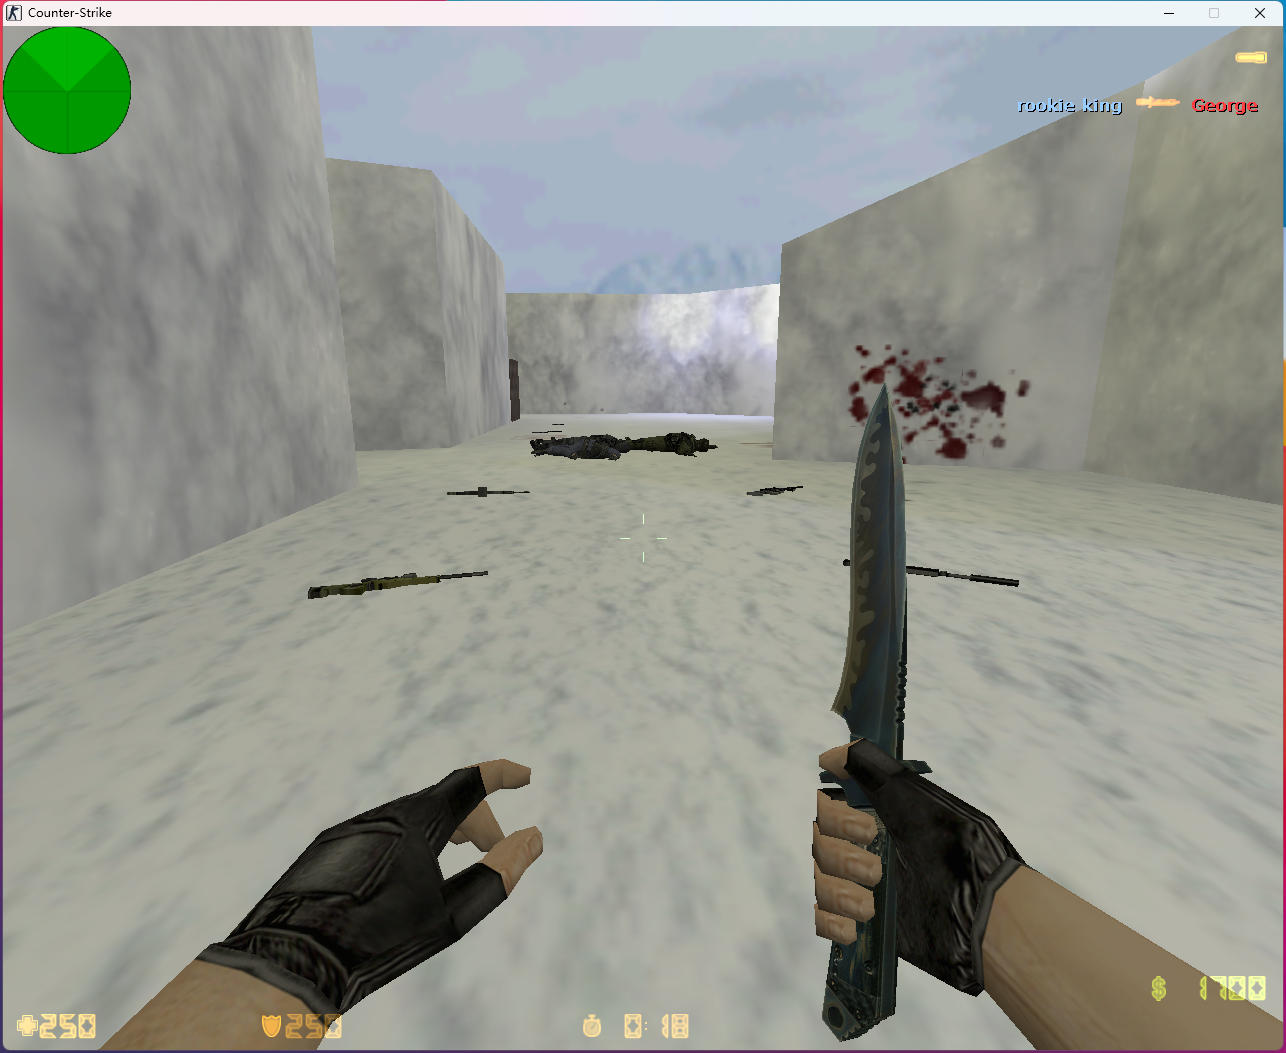dead: (617, 433, 715, 455), (531, 436, 621, 458)
weapon: (837, 555, 1022, 586), (305, 572, 490, 600), (445, 486, 529, 498), (744, 483, 801, 496)
